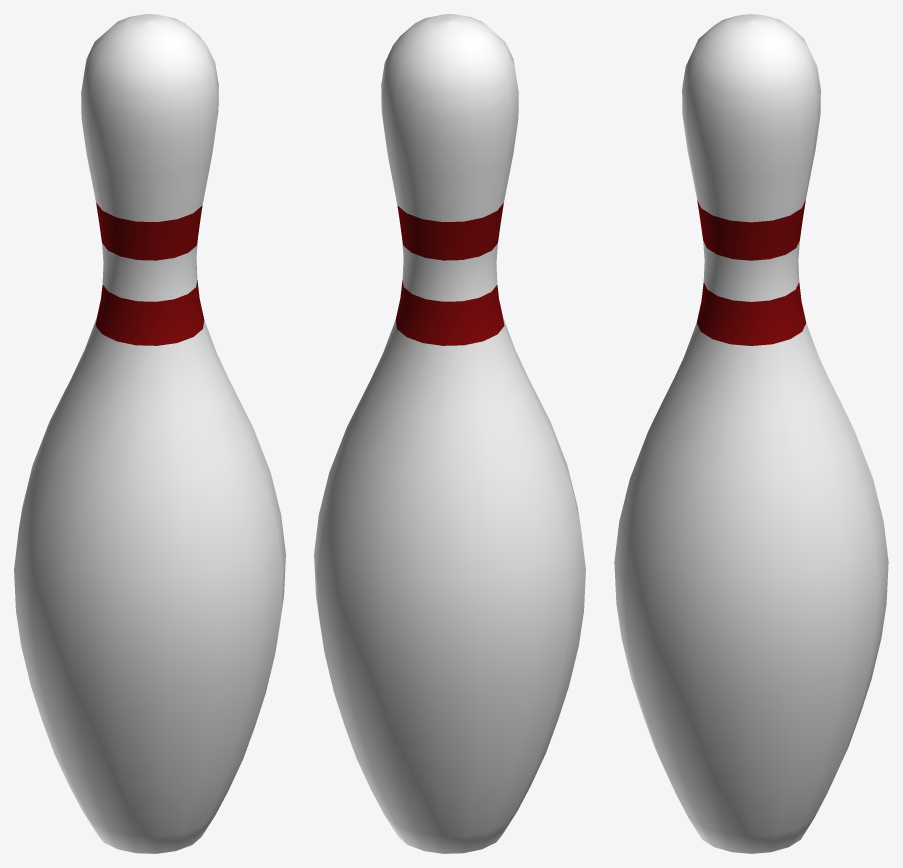
The model's file is bowling_pin.glb.
3 renders of one model, left to right at view 1: azimuth 30°, elevation 25°; view 2: azimuth 150°, elevation 25°; view 3: azimuth 270°, elevation 25°, orthographic.
Parts seen in each view (by area): view 1: bowlingPin; view 2: bowlingPin; view 3: bowlingPin.
Part boxes in pixels (x1=…): bowlingPin: x1=14, y1=14, x2=285, y2=853; bowlingPin: x1=314, y1=14, x2=585, y2=853; bowlingPin: x1=614, y1=14, x2=888, y2=853.
Size of the model in its own units: 0.6095 by 1.99 by 0.6095.
Materials: 1 (1 with a texture image).
